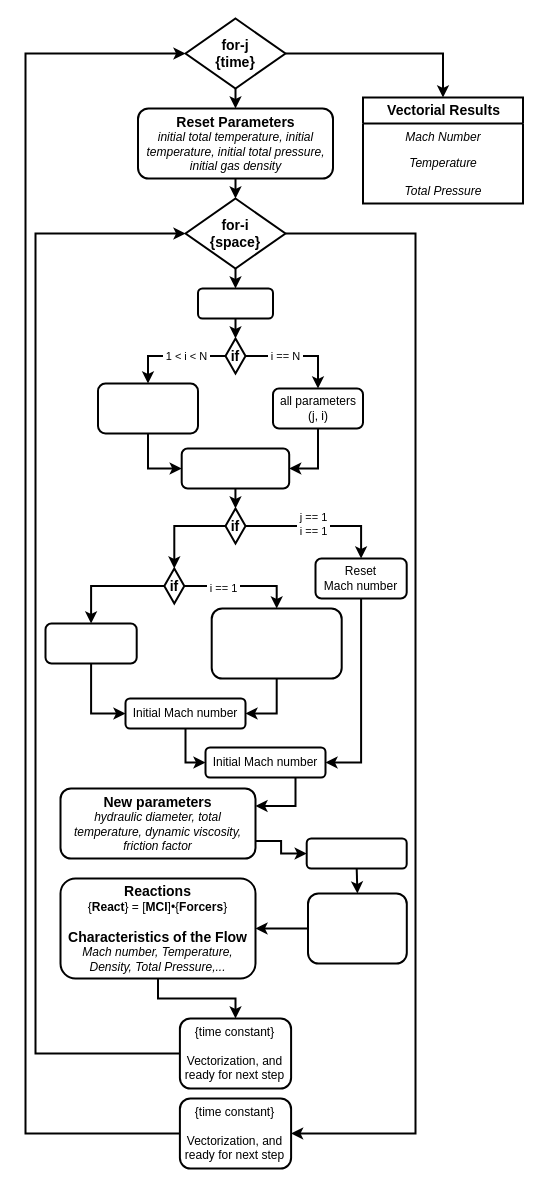
Image size: 541x1186. Some labels were removed from this diagram. Here are the shapes that lost their labels. From the top down, the centre of each, then its label:
the point at 235,303: x = space
the point at 147,408: parameters old (j,i) new (j,i+1)
the point at 235,468: Radii, Mass Flow
the point at 90,643: Mach number constant
the point at 276,643: Variations Initial port area initial gas velocity initial Mach number
the point at 356,853: Vector Forcers
the point at 356,928: MCI Matrix of the Coefficients of Influence
